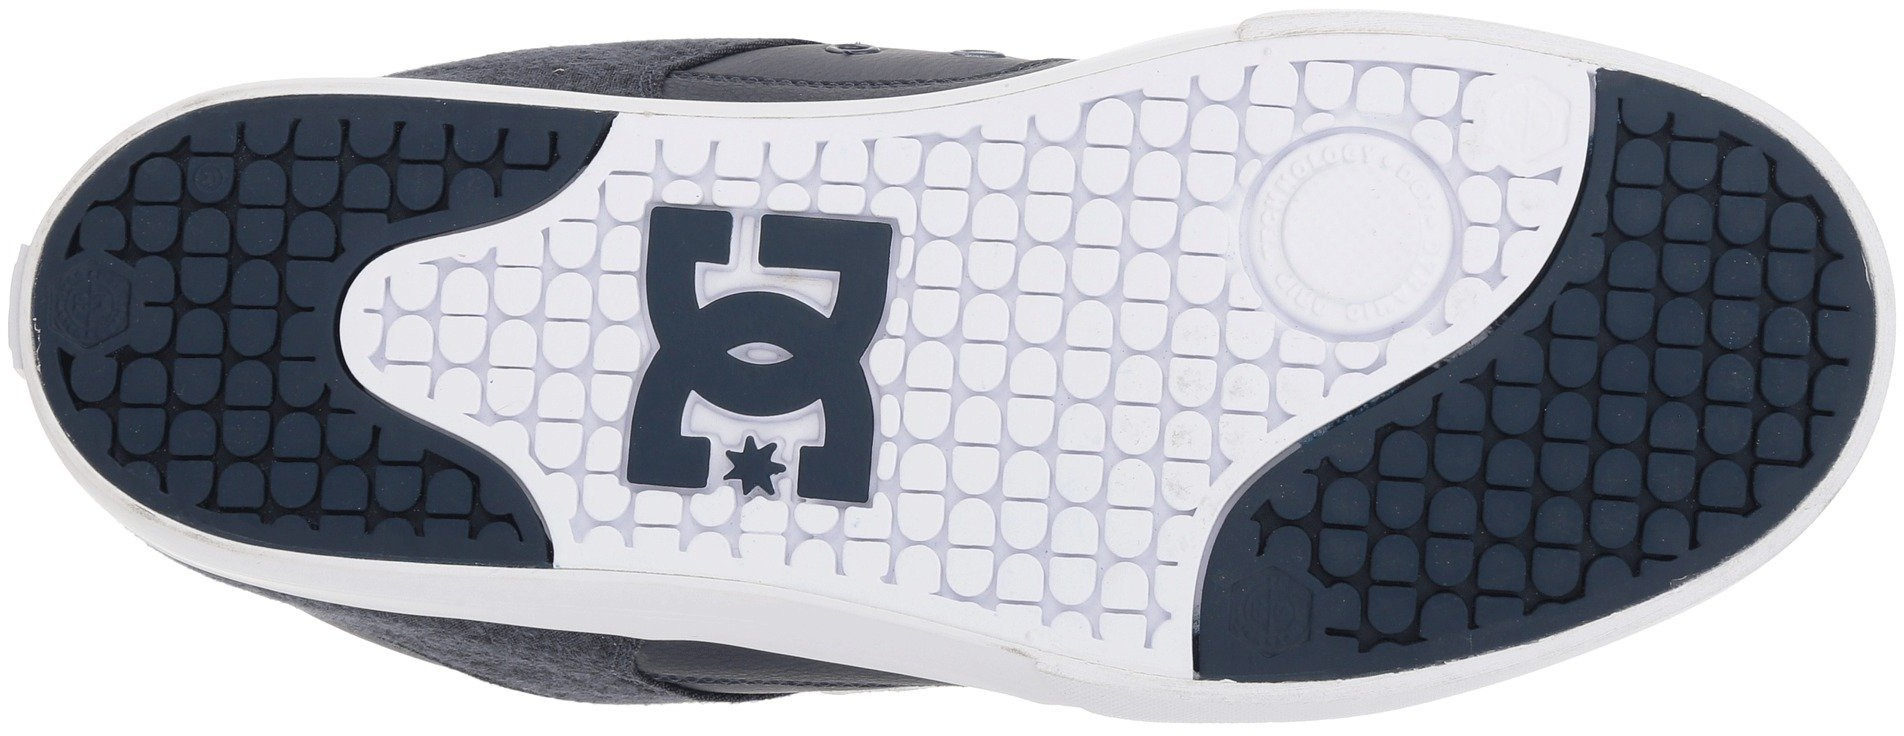circle: (1236, 120, 1466, 345)
polygon: (1472, 72, 1582, 172), (49, 254, 142, 344)
quad: (168, 159, 552, 521), (956, 140, 1243, 411), (1422, 378, 1653, 601), (1597, 185, 1820, 404), (948, 395, 1160, 608)
star: (589, 193, 936, 523), (713, 428, 800, 506)
text: (589, 193, 936, 523)
